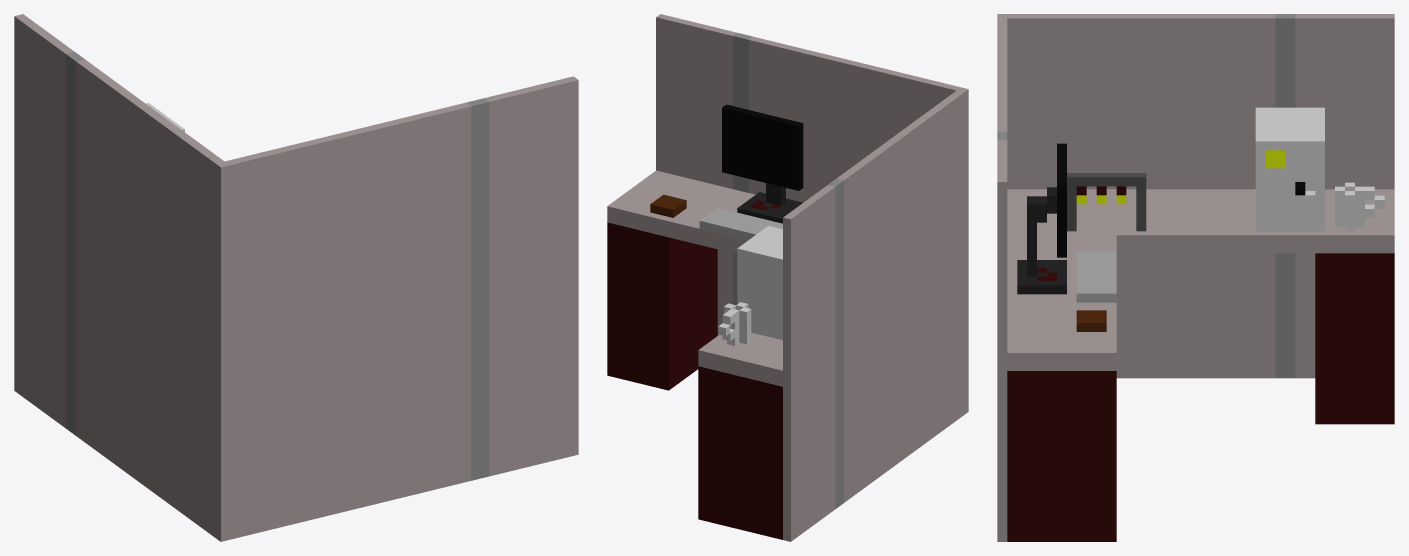
Rendered from ComputerDeskSetup2Obj.obj.
The picture shows the model from 3 angles, left to right: view 1: azimuth 30°, elevation 25°; view 2: azimuth 150°, elevation 25°; view 3: azimuth 270°, elevation 25°; orthographic projection. The views are drawn at different scales.
Size of the model in its own units: 4 by 4 by 4.
Materials: 1 (1 with a texture image).
